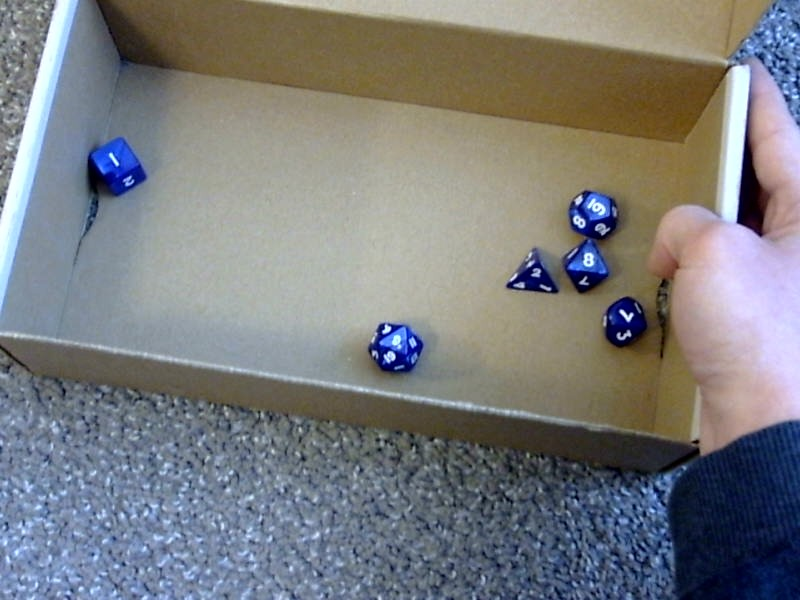d10 7: (600, 292, 649, 349)
d12 6: (562, 181, 619, 238)
d20 9: (363, 311, 424, 375)
d4 2: (504, 237, 559, 298)
d6 1: (81, 122, 148, 195)
d8 8: (562, 239, 609, 293)
